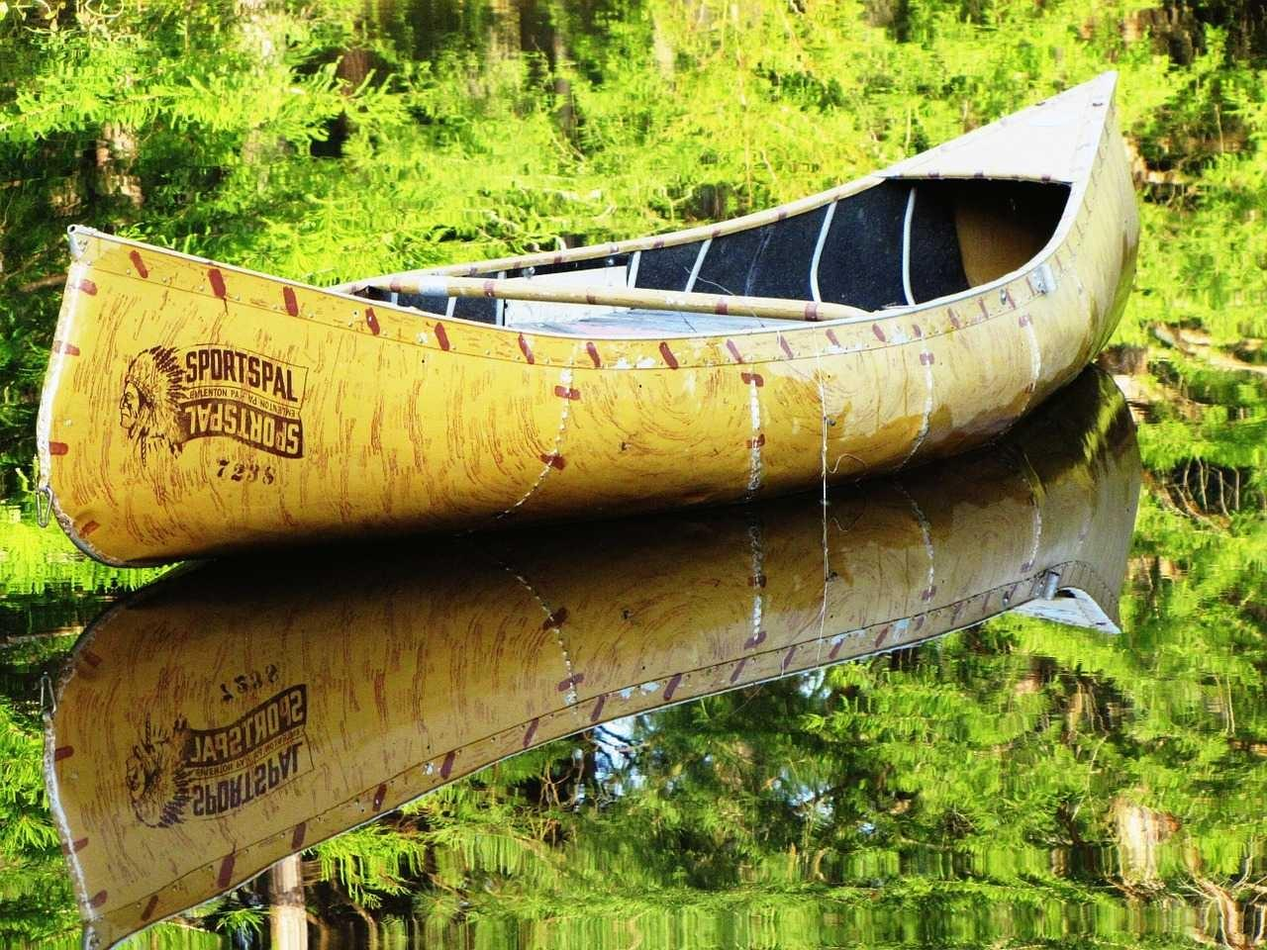kayak: (36, 82, 1142, 569)
